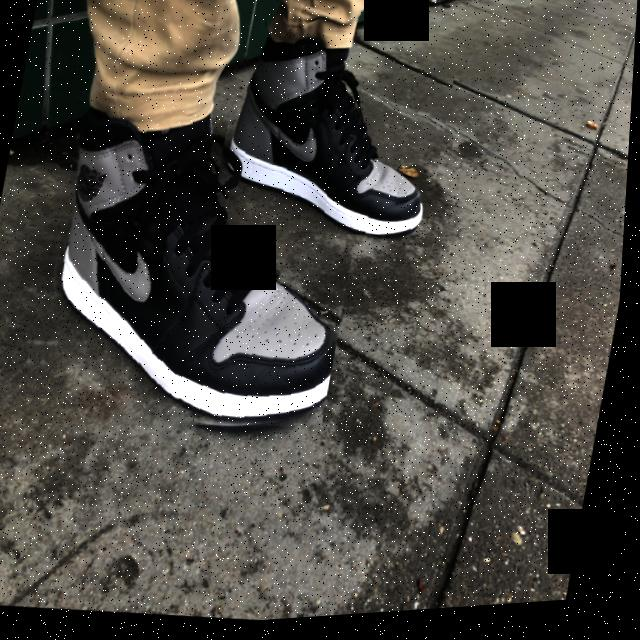shoe: (17, 81, 381, 460), (210, 15, 463, 255)
